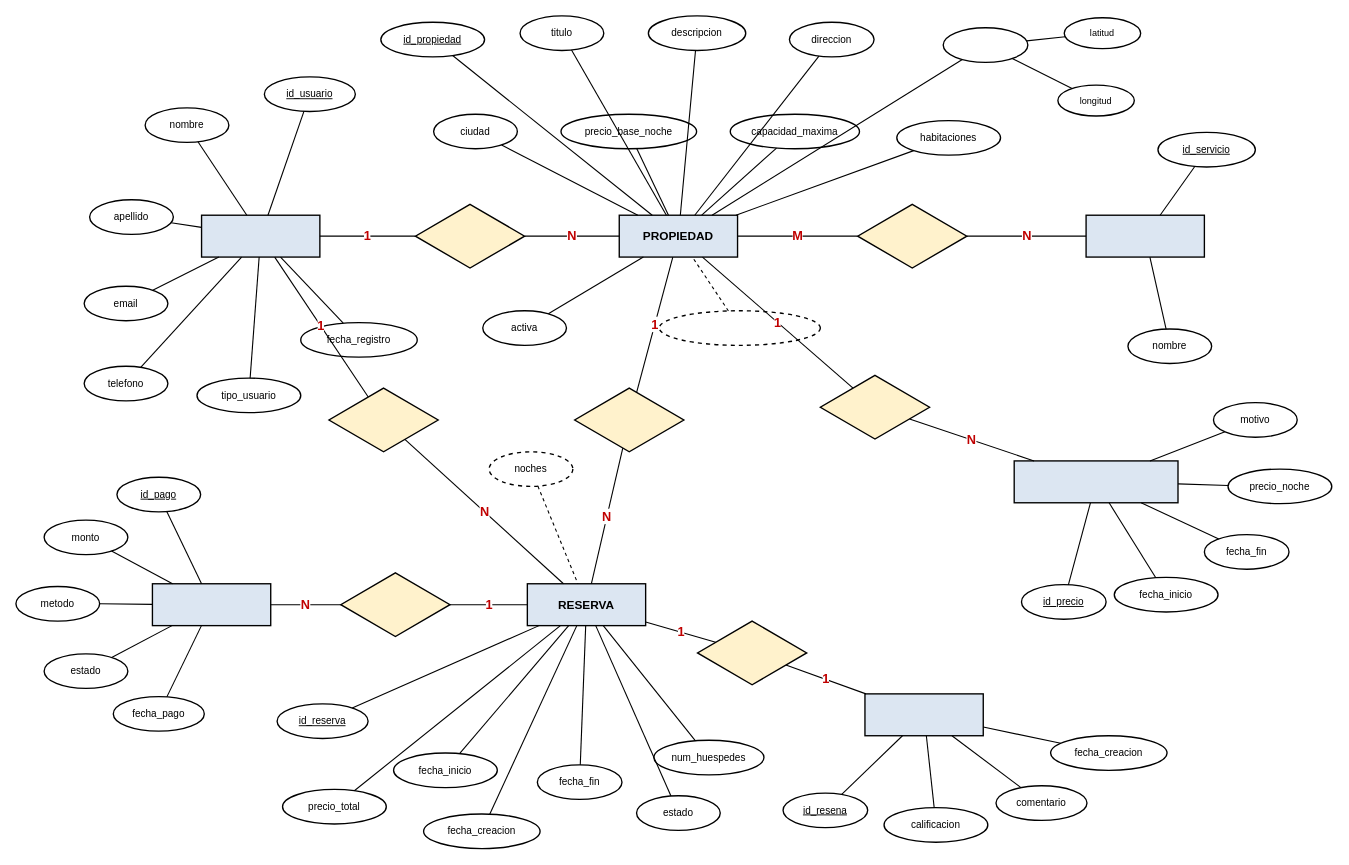
Some shapes in this 1349 by 865 pixel diagram are drawn without their labels. Each missing label, with the centre of its shape:
CALIFICA: pixel 751 652
calificacion_promedio: pixel 739 328
GENERA: pixel 395 604
OFRECE: pixel 912 235
PAGO: pixel 211 604
PRECIO_ESPECIAL: pixel 1095 481
PUBLICA: pixel 469 235
REALIZA: pixel 383 419
RECIBE: pixel 629 419
RESENA: pixel 924 714
SERVICIO: pixel 1145 235
TIENE: pixel 874 406
ubicacion: pixel 985 45
USUARIO: pixel 260 235
